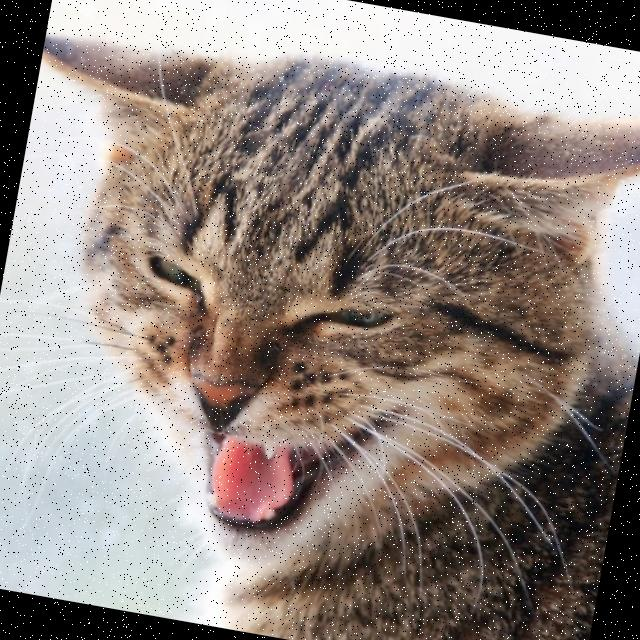Angry: (32, 177, 502, 618)
